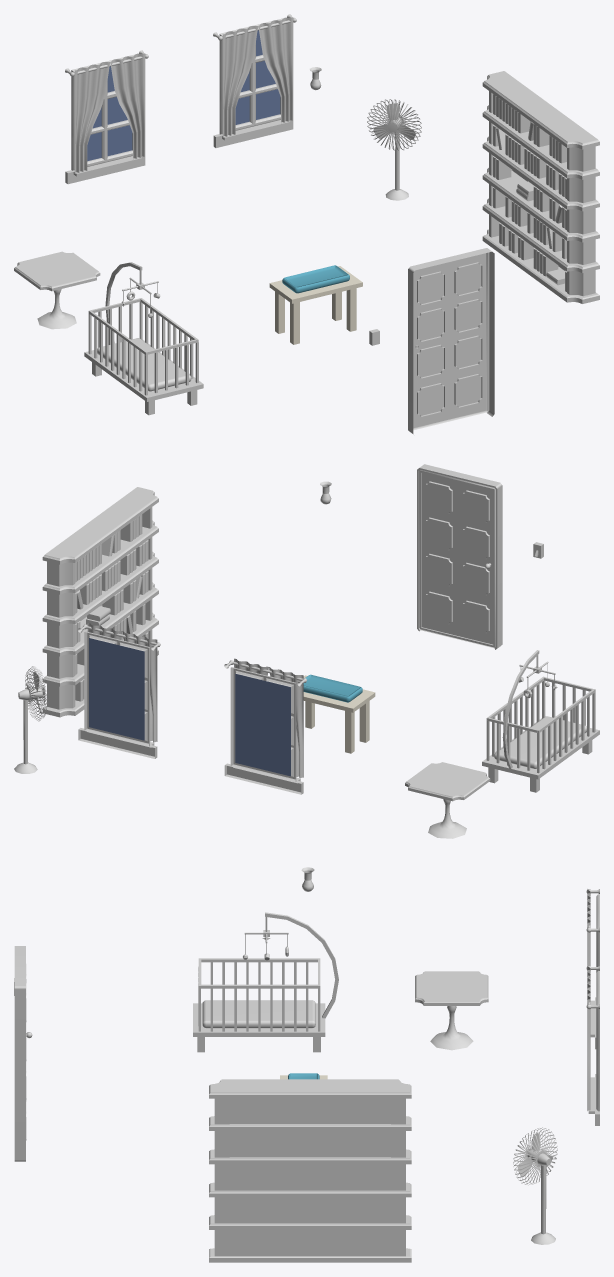
File: Baby Room.fbx
3 views of the same model, one above another, from view 1: azimuth 30°, elevation 25°; view 2: azimuth 150°, elevation 25°; view 3: azimuth 270°, elevation 25° (orthographic). The views are drawn at different scales.
Parts seen in each view (by area): view 1: bookcase, door, pCube51, pCube48, table, left_window, right_window, left_window_left_curtain, right_window_left_curtain, left_window_right_curtain, right_window_right_curtain, fan (+2 smaller); view 2: bookcase, door, pCube51, left_window_background, right_window_background, left_window, right_window, table, pCube48, fan, right_window_left_curtain, left_window_left_curtain; view 3: bookcase, pCube51, table, door, fan, right_window, left_window.
Part boxes in pixels (x1,y1,x2,y2): bookcase: (482,71,599,303); door: (408,248,494,434); pCube51: (84,262,203,415); pCube48: (269,265,362,344); table: (14,251,100,329); left_window: (65,50,148,184); right_window: (213,14,296,147); left_window_left_curtain: (74,62,110,173); right_window_left_curtain: (222,26,258,137); left_window_right_curtain: (110,53,145,159); right_window_right_curtain: (258,17,293,123); fan: (367,99,421,200); bookcase: (42,487,158,717); door: (417,464,502,649); pCube51: (482,650,599,792); left_window_background: (89,638,144,740); right_window_background: (235,673,290,776); left_window: (224,660,306,794); right_window: (78,624,160,758); table: (405,762,490,838); pCube48: (303,674,375,753); fan: (14,666,47,773); right_window_left_curtain: (122,631,157,742); left_window_left_curtain: (269,667,303,778); bookcase: (209,1079,411,1262); pCube51: (193,912,338,1052); table: (415,971,488,1050); door: (14,946,32,1161); fan: (513,1127,557,1244); right_window: (586,965,599,1125); left_window: (586,889,599,1049).
Size of the model in its own units: 4.73 by 2.55 by 4.91.
